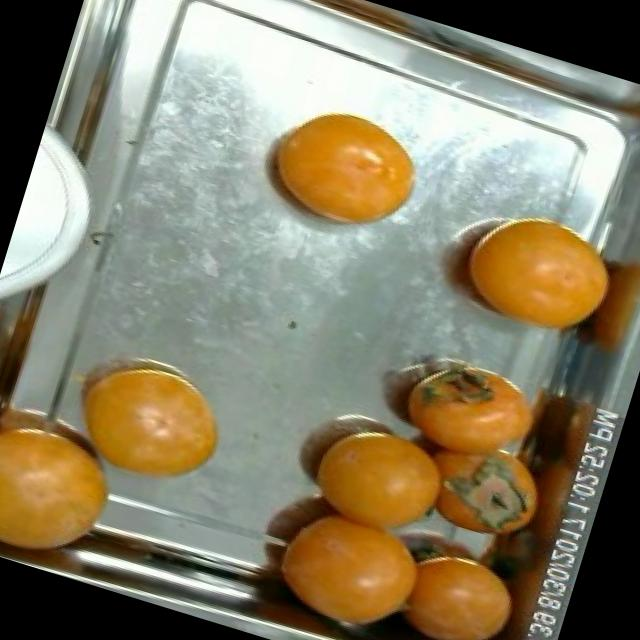Fruit: (239, 468, 448, 640), (46, 334, 248, 510), (436, 186, 634, 360), (243, 86, 439, 255), (0, 399, 141, 582), (356, 528, 535, 640)
